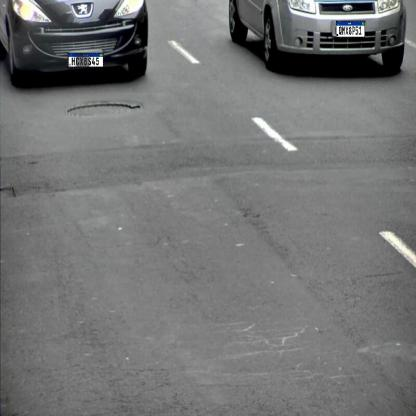PlacaM: (68, 53, 104, 67), (336, 21, 365, 37)
